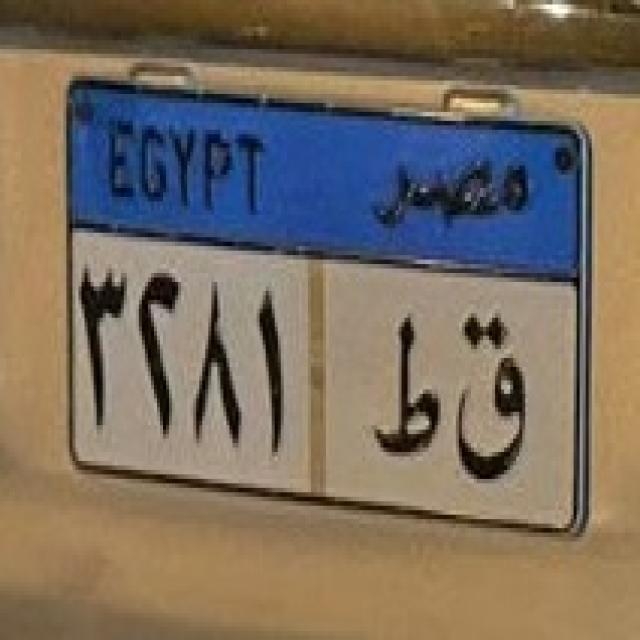1: (247, 284, 299, 462)
2: (126, 258, 190, 447)
3: (65, 254, 136, 444)
8: (188, 267, 251, 461)
Taa: (446, 299, 542, 498), (366, 300, 446, 474)
